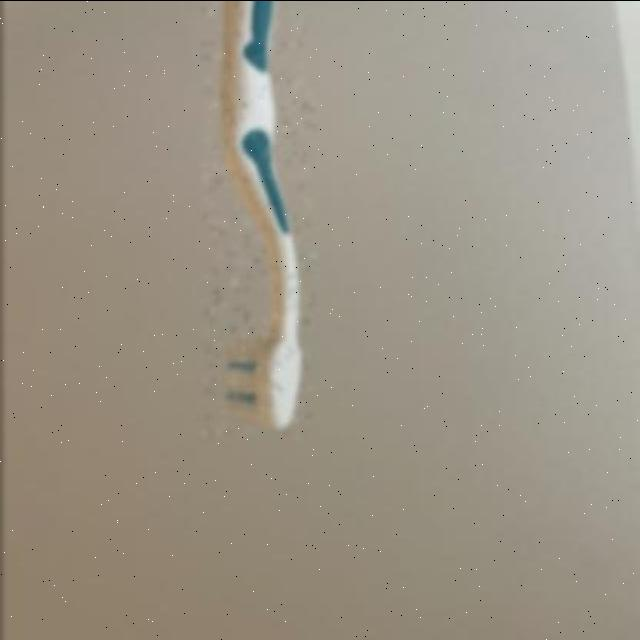toothbrush: (202, 0, 314, 440)
